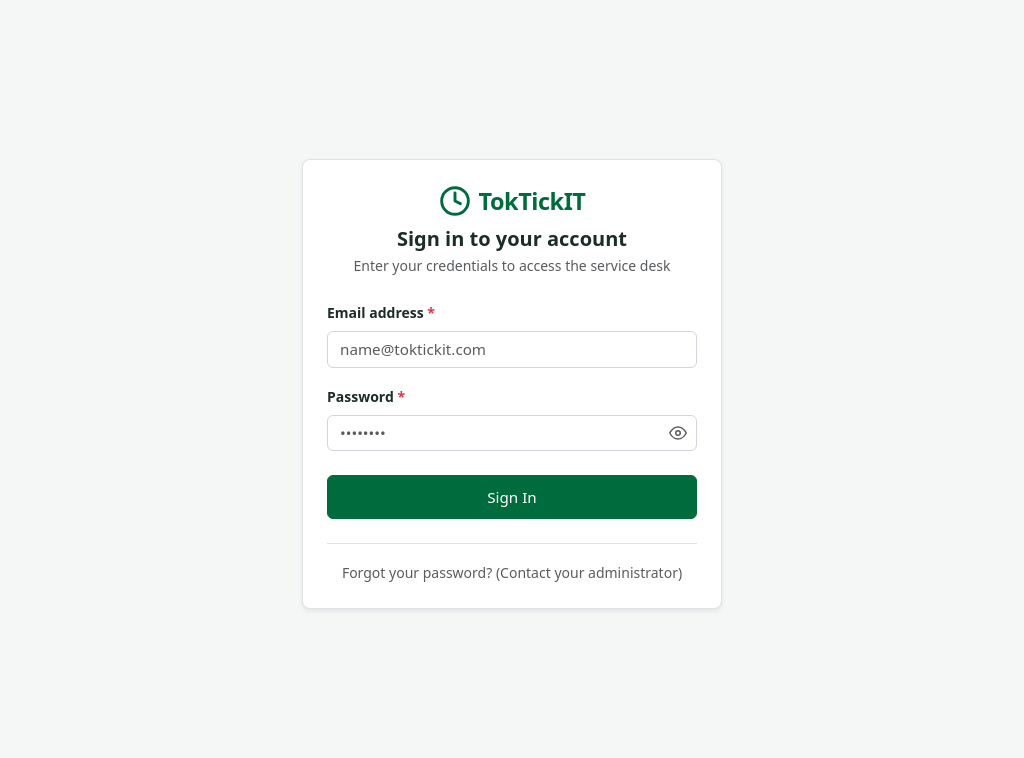
Test: Protected Route Guard and Intended Destination UI Tests › preserves intended destination and forwards user to /tickets/new upon successful login
Expected: the heading "Sign in to your account" is shown, [397, 225, 627, 252]
Type "jennifer.anderson@kmutt.ac.th" into the field labelled "Email address *" at (512, 349), box [327, 331, 697, 368]
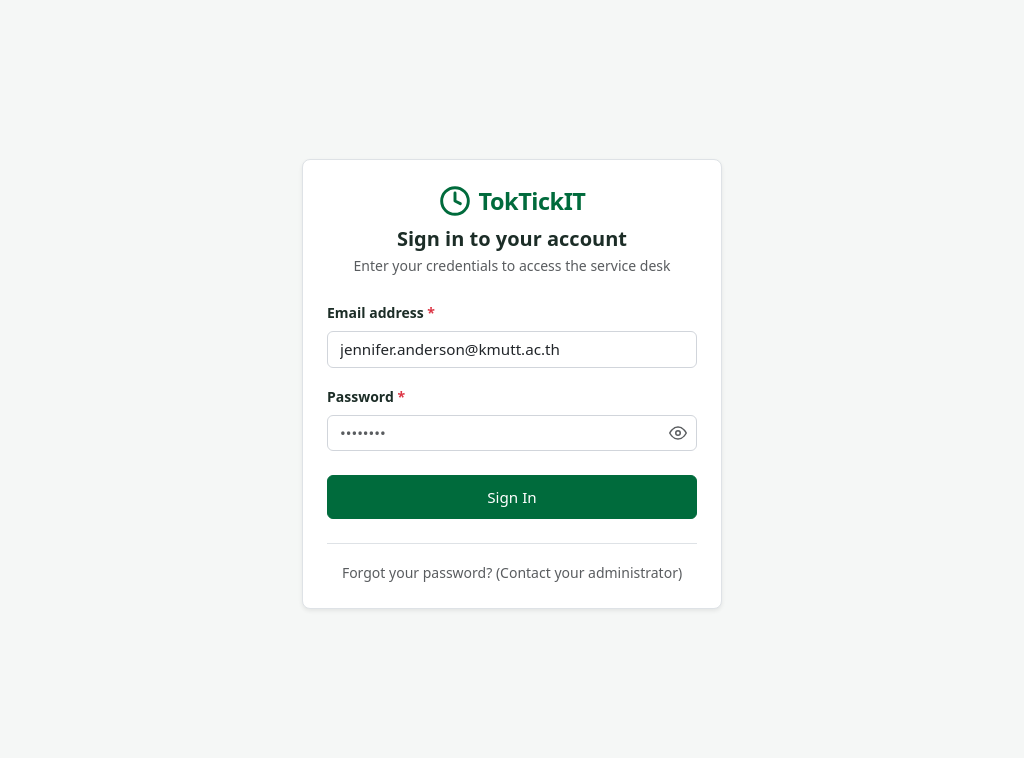
Type "Password123!" into the password field labelled "Password *" at (512, 433), box [327, 415, 697, 451]
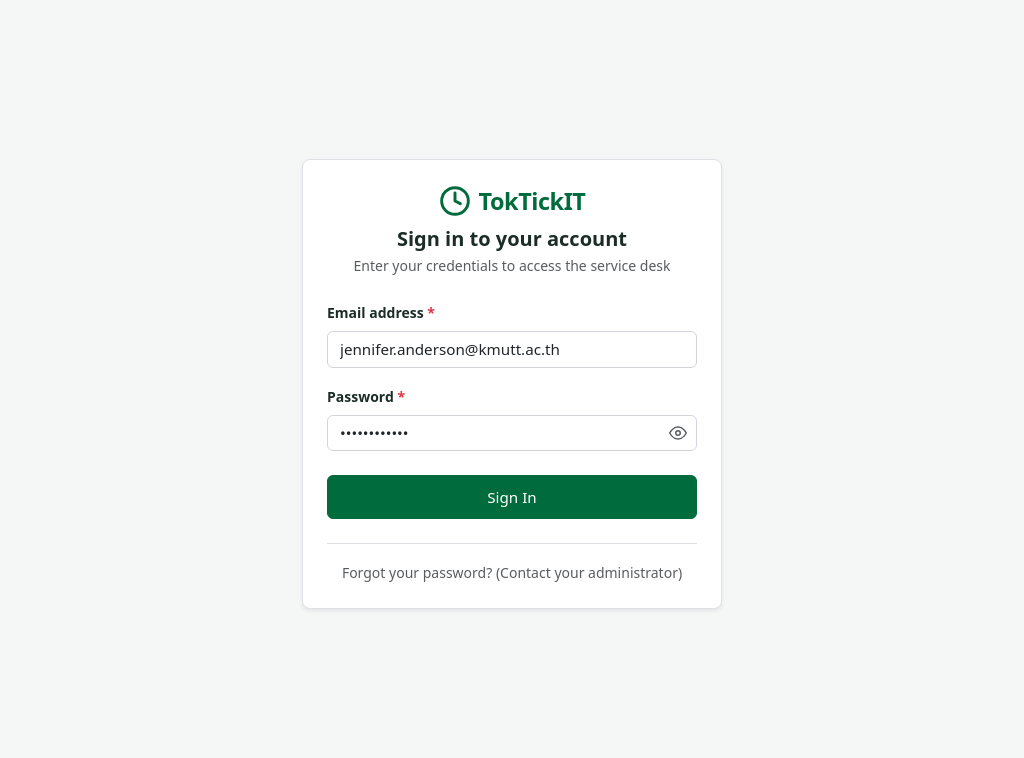
Click the button "Sign In" at (512, 497), box [327, 475, 697, 519]
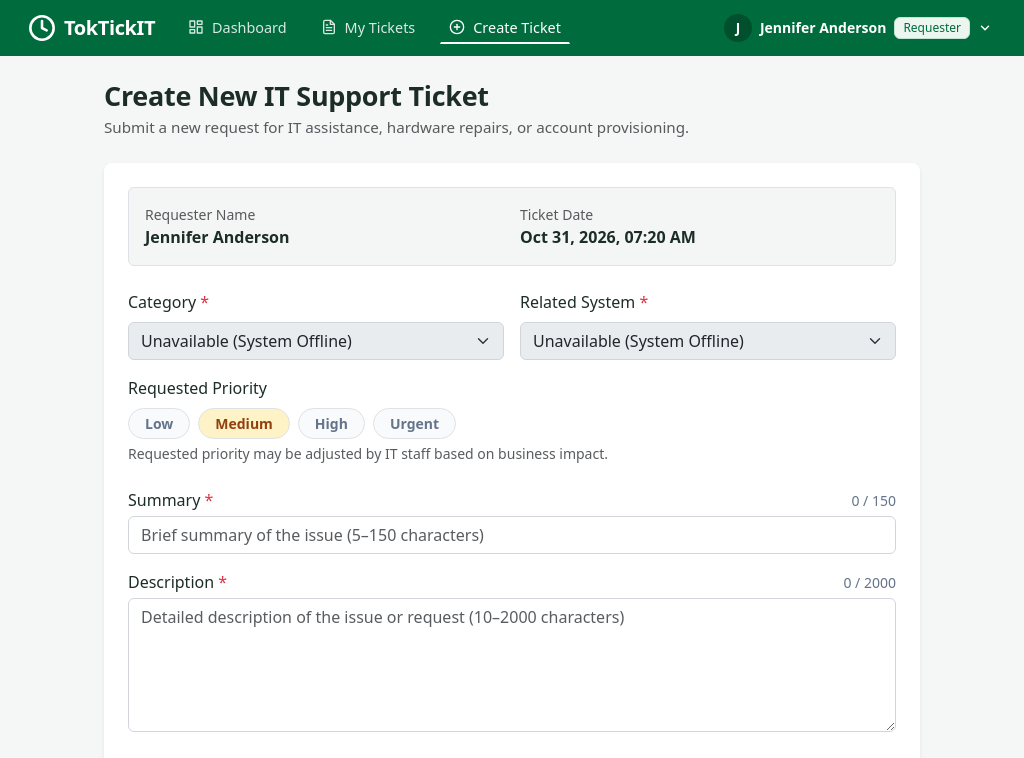
Now the heading "Create New IT Support Ticket" is shown, box [104, 77, 489, 114]
